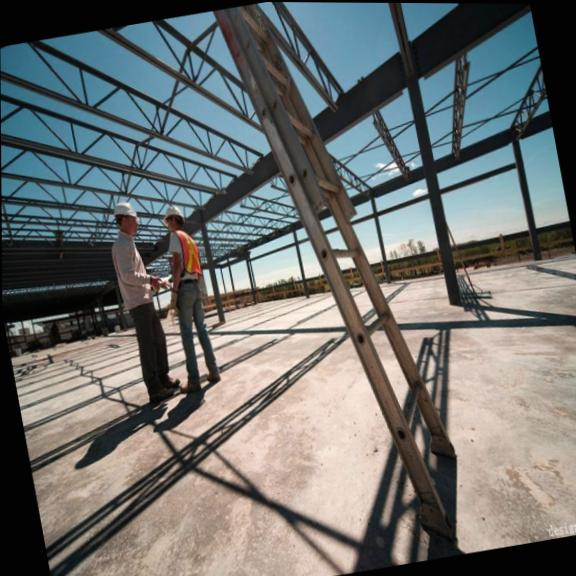no_safety_vest: (112, 241, 151, 315)
safety_vest: (169, 224, 205, 284)
